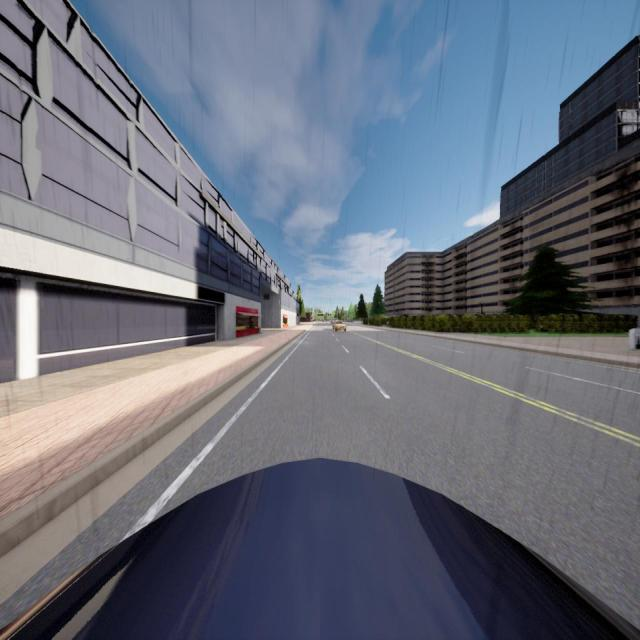Vehicle: (2, 458, 640, 640), (332, 320, 347, 332)
